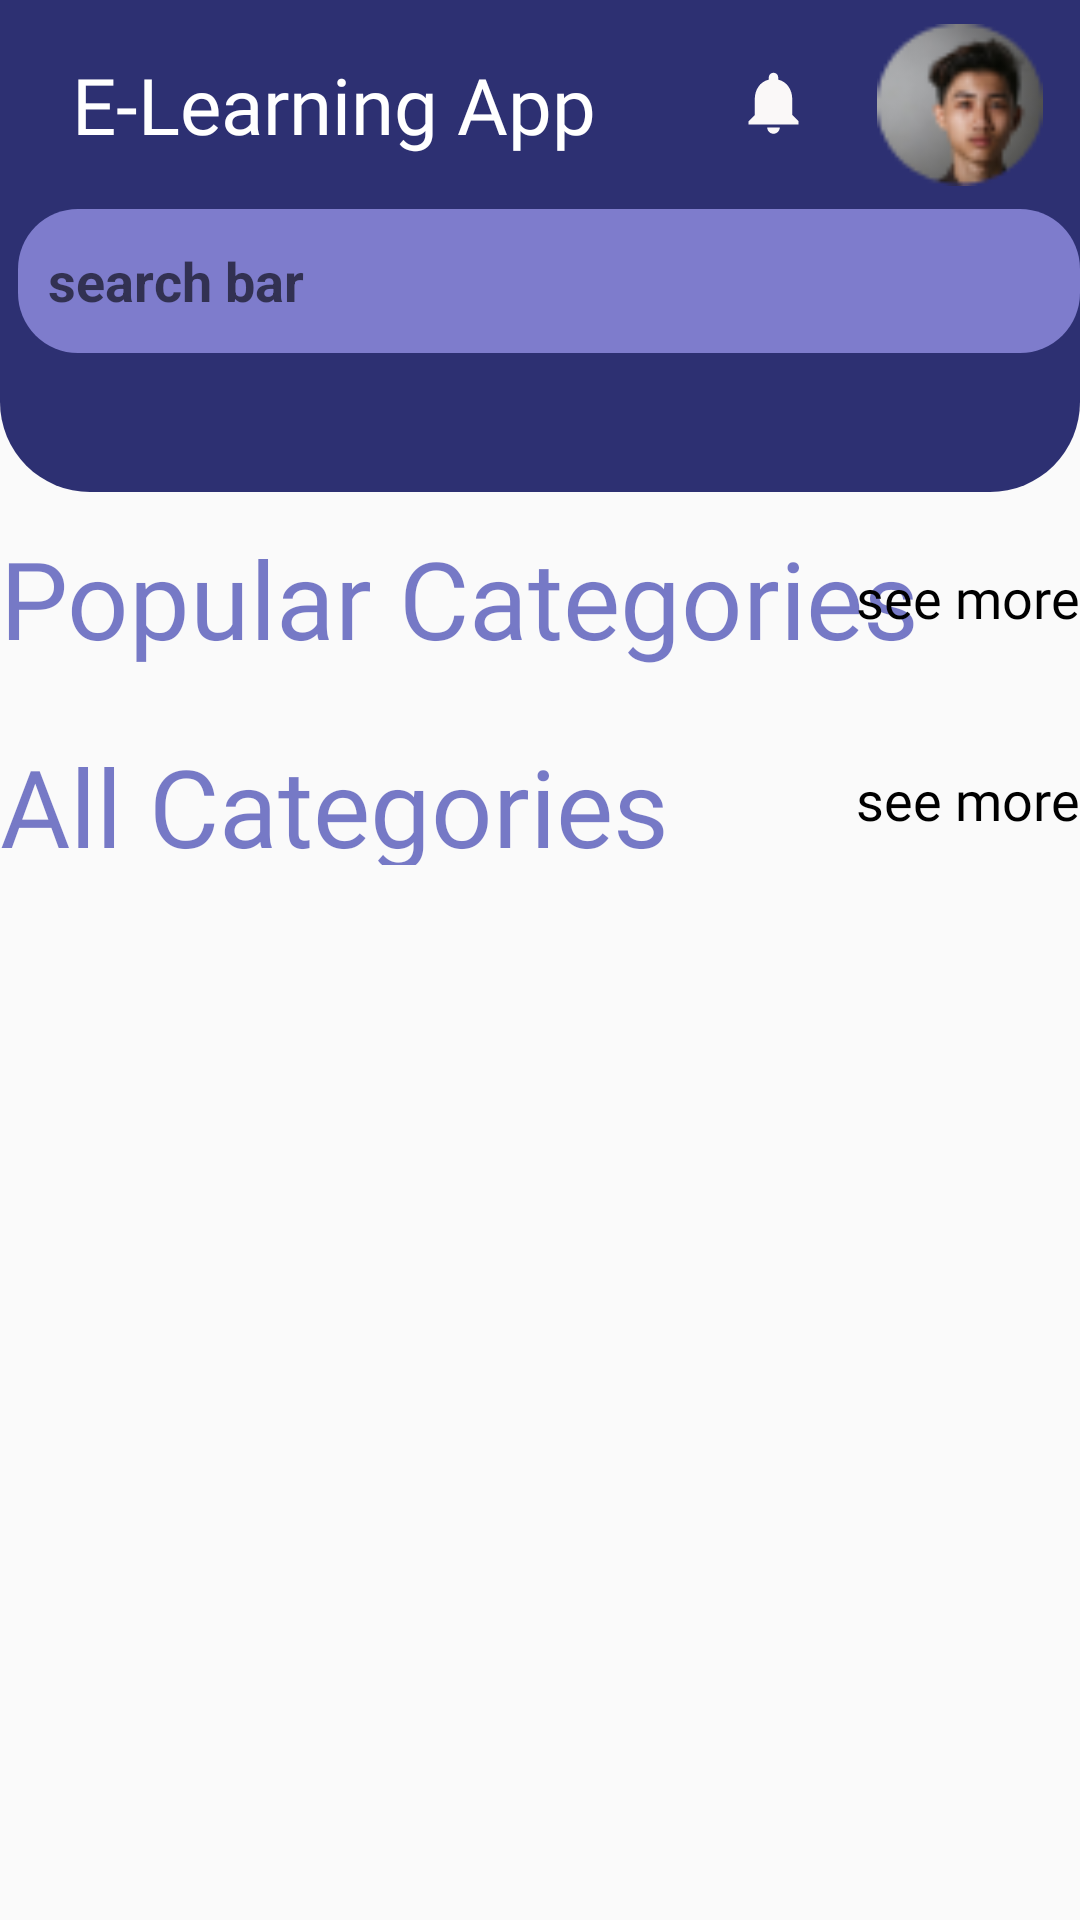

Screen size 1080px x 1920px. Icon name, then its box in pixels as (x1, y1, x2, y2):
notifications: (748, 72, 799, 134)
profiel: (877, 24, 1043, 186)
